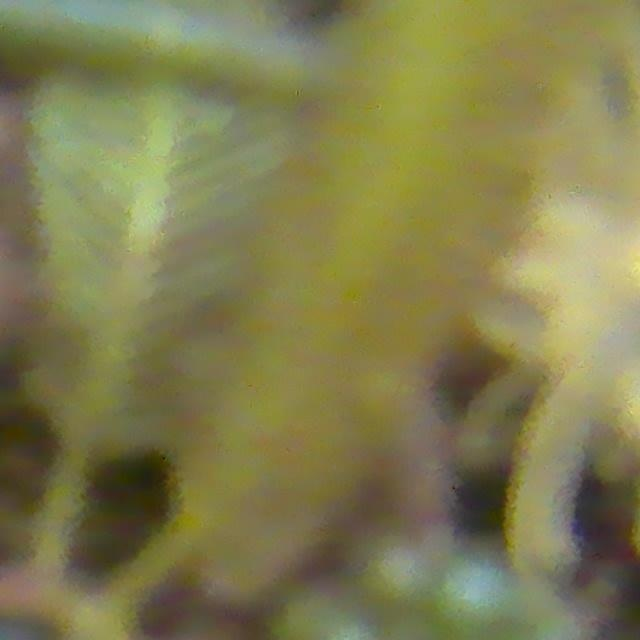SeaGrape: (428, 551, 508, 640), (359, 532, 437, 605), (270, 587, 340, 640)
